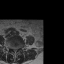CCS_normal: (14, 47, 16, 54)
LFS_severe_stenosis: (18, 46, 20, 51)
LLS_stenosis: (16, 47, 17, 52)
RFS_severe_stenosis: (11, 46, 13, 50)
RLS_stenosis: (12, 47, 14, 52)
